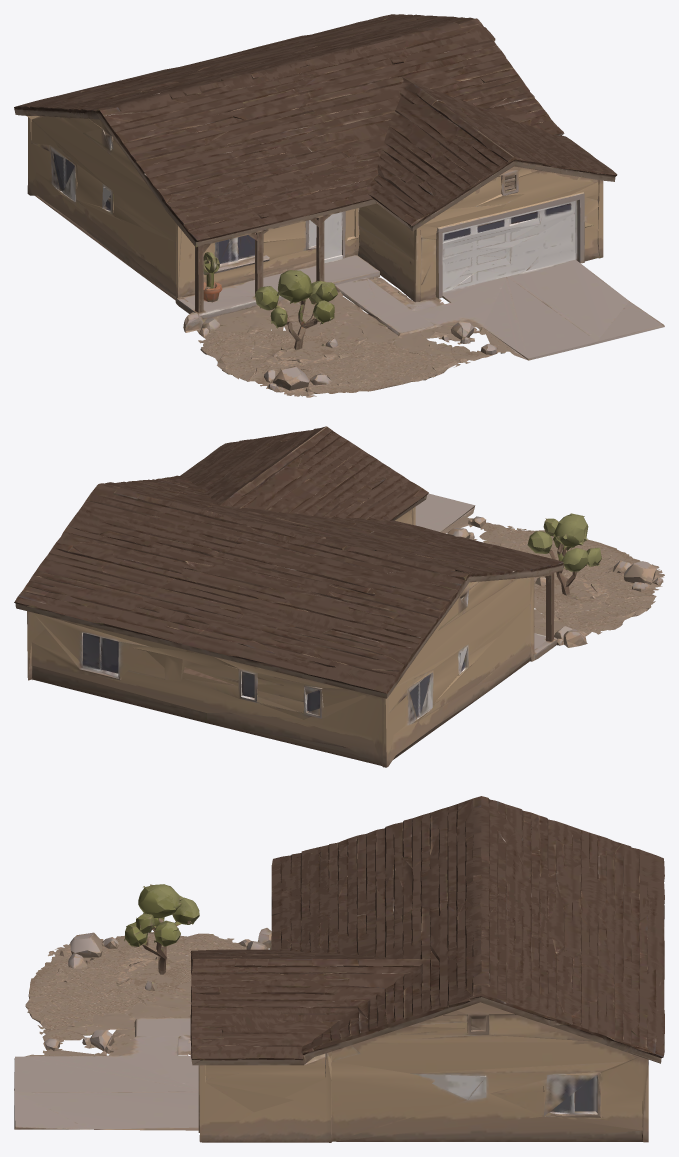
Rendered from house.glb.
The picture shows the model from 3 angles, top to bottom: view 1: azimuth 30°, elevation 25°; view 2: azimuth 150°, elevation 25°; view 3: azimuth 270°, elevation 25°; orthographic projection. The views are drawn at different scales.
Parts seen in each view (by area): view 1: placed; view 2: placed; view 3: placed.
Part boxes in pixels (x1,y1,x2,y2): placed: [14, 14, 664, 397]; placed: [14, 426, 664, 767]; placed: [14, 796, 664, 1142].
Bounding box in the file's own units: 12.57 × 4.15 × 16.
Materials: 1 (1 with a texture image).
